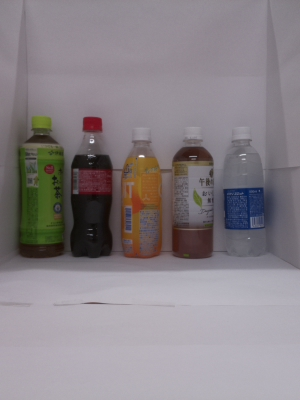おーいお茶: (12, 111, 68, 262)
グレープフルーツスカッシュ: (115, 124, 165, 266)
コーラ: (68, 113, 115, 263)
ポカリスエット: (219, 123, 268, 263)
午後の紅茶: (166, 121, 219, 267)
